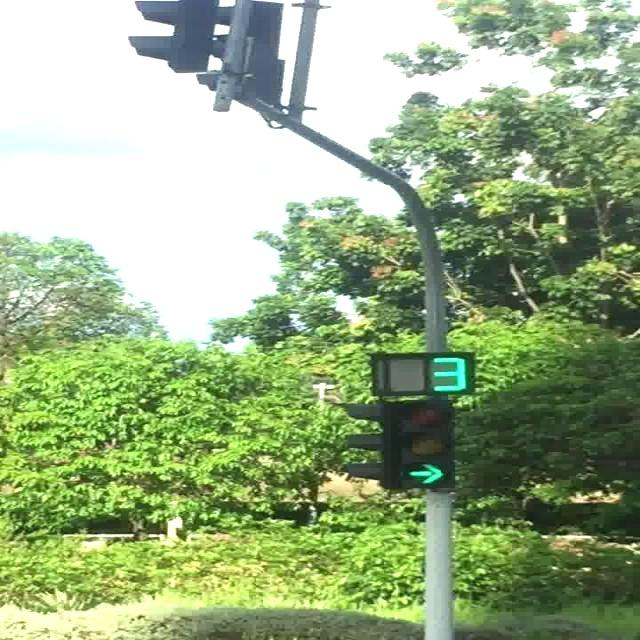Green: (394, 400, 454, 490)
